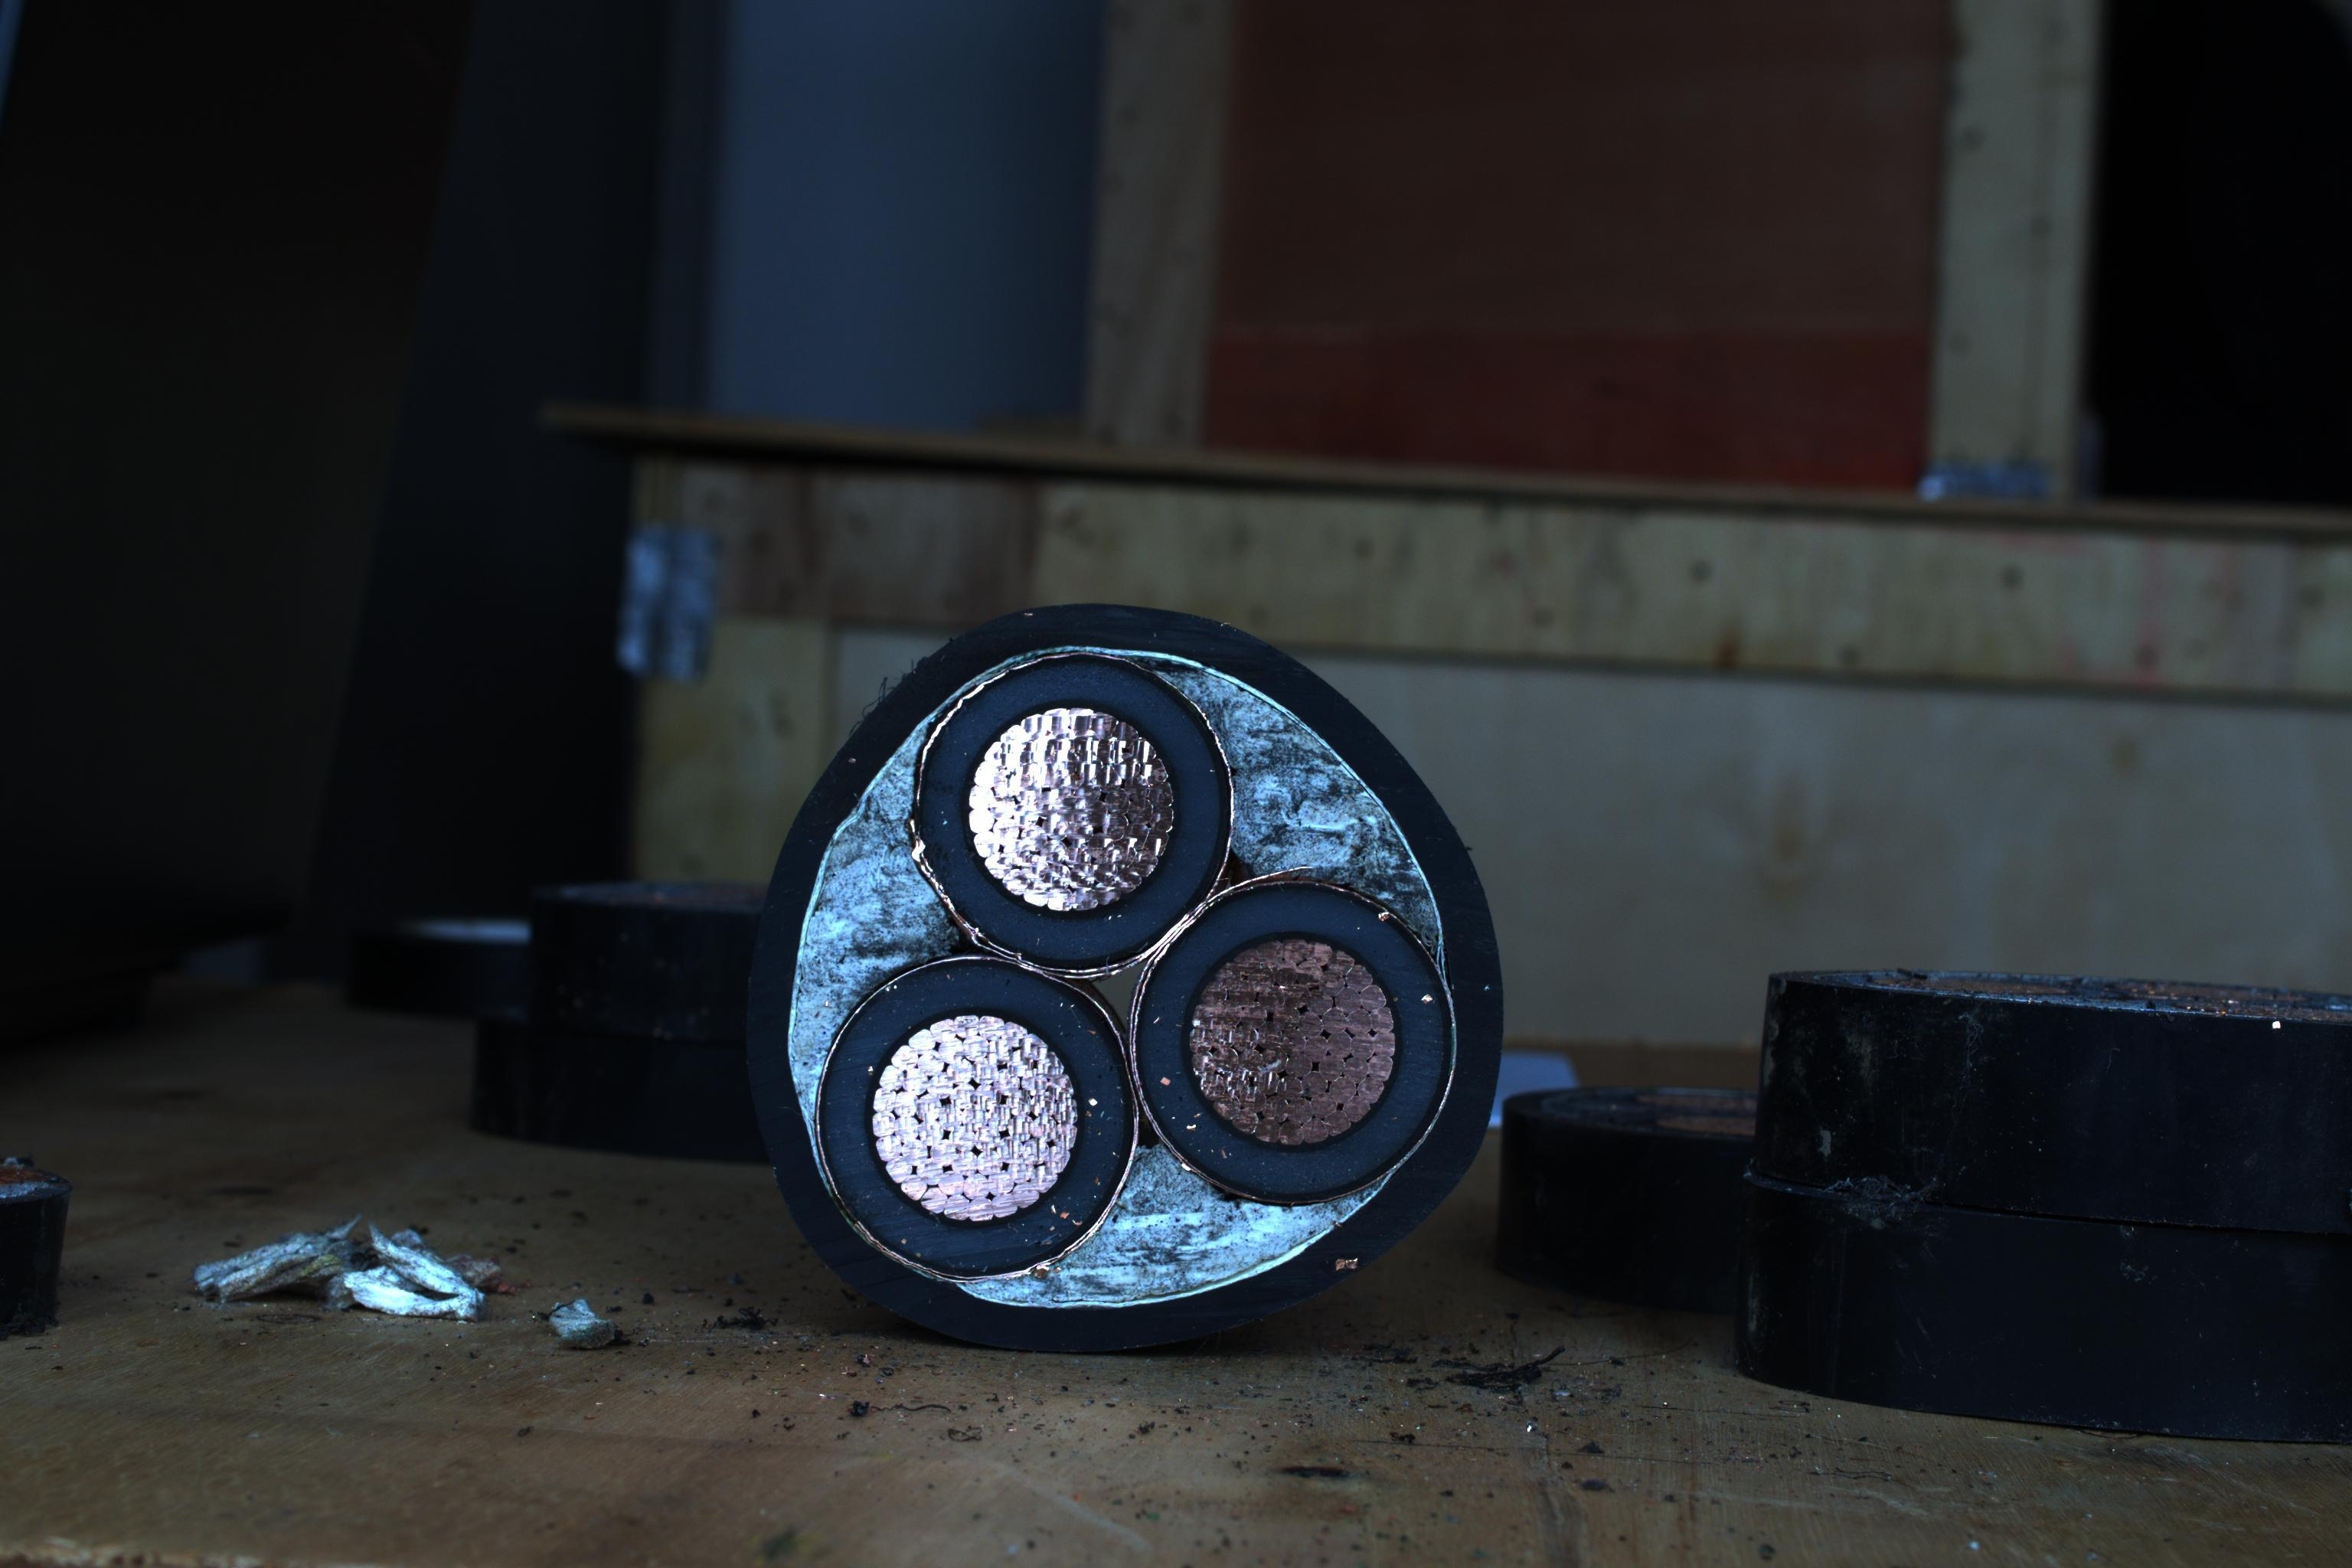ZA_YJV_8.7_10kV_3x400: (745, 614, 1505, 1332)
